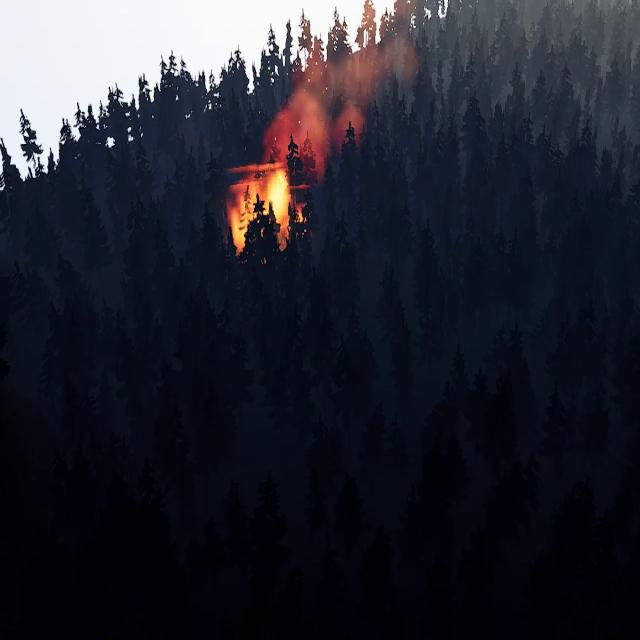fire: (230, 170, 294, 255)
smoke: (259, 0, 418, 175)
